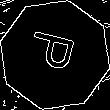P_E: (26, 31, 84, 79)
